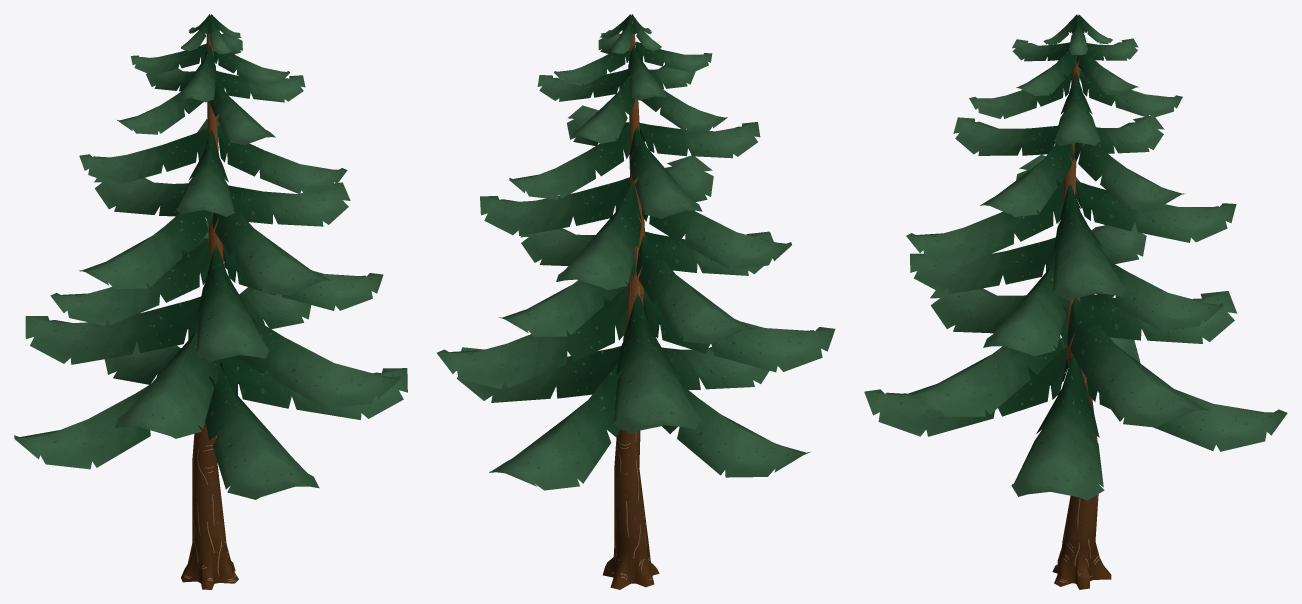
The model's file is Tree_Pine_G_10M.fbx.
3 views of the same model, side by side, from view 1: azimuth 30°, elevation 25°; view 2: azimuth 150°, elevation 25°; view 3: azimuth 270°, elevation 25° (orthographic).
Parts seen in each view (by area): view 1: Tree_Pine_10M_G; view 2: Tree_Pine_10M_G; view 3: Tree_Pine_10M_G.
Part boxes in pixels (x1,y1,x2,y2): Tree_Pine_10M_G: (14,14,407,589); Tree_Pine_10M_G: (437,14,835,589); Tree_Pine_10M_G: (864,14,1287,589).
Bounding box in the file's own units: 691 × 1013 × 691.
